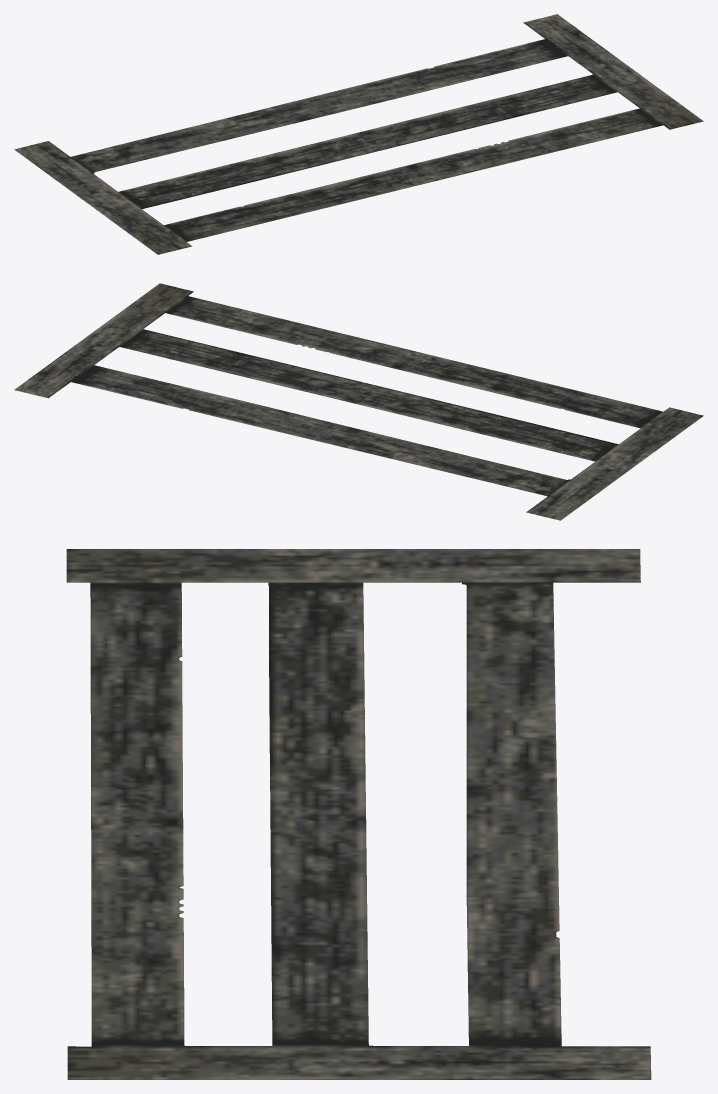
The model's file is SM_EC_Fence_Card_01.fbx.
3 views of the same model, one above another, from view 1: azimuth 30°, elevation 25°; view 2: azimuth 150°, elevation 25°; view 3: azimuth 270°, elevation 25° (orthographic). The views are drawn at different scales.
Parts seen in each view (by area): view 1: SM_EC_Fence_Card_01; view 2: SM_EC_Fence_Card_01; view 3: SM_EC_Fence_Card_01.
Boxes of the visible parts, x1,y1,x2,y2 form: SM_EC_Fence_Card_01: (14,14,703,254); SM_EC_Fence_Card_01: (14,283,703,520); SM_EC_Fence_Card_01: (66,549,651,1079).
Size of the model in its own units: 3.68 by 1.71 by 0.
